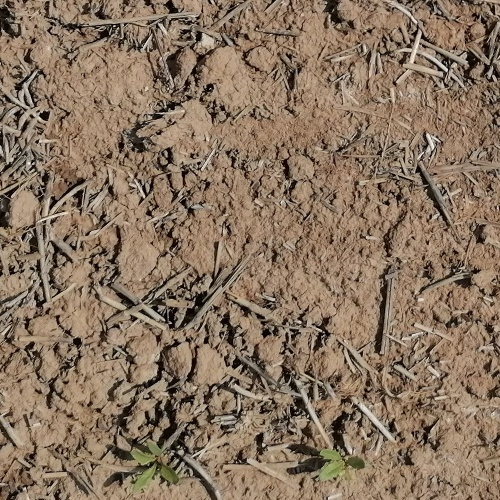beet: (130, 441, 178, 490), (320, 448, 367, 482)
